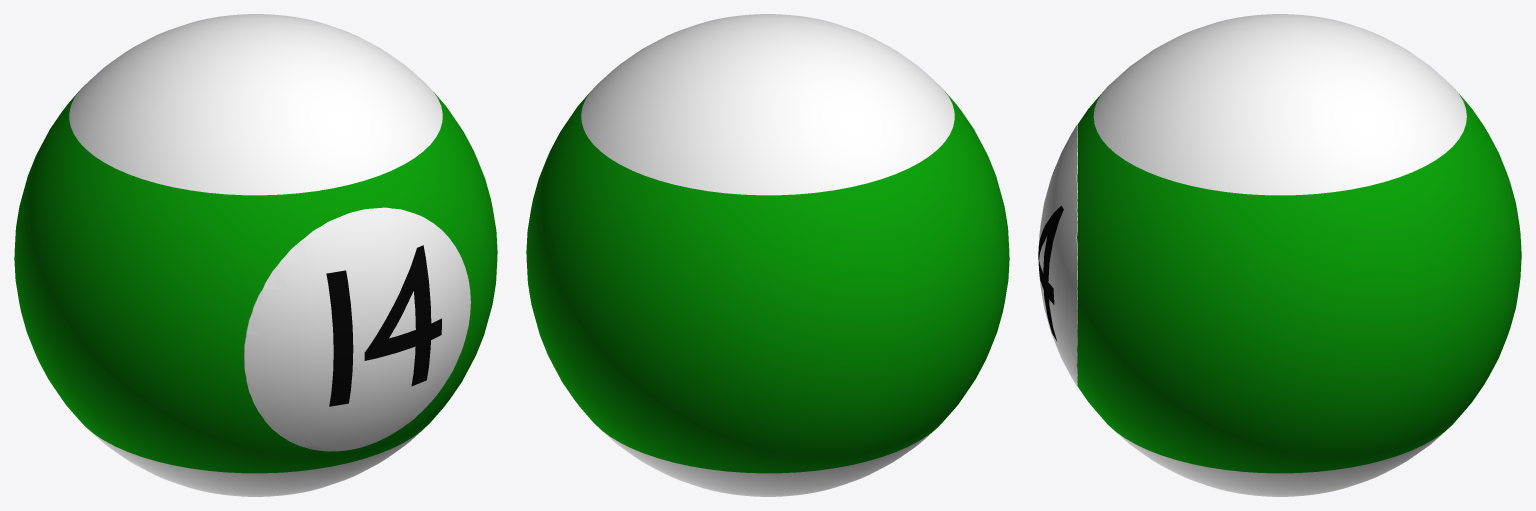
Rendered from Ball14.fbx.
The picture shows the model from 3 angles, left to right: view 1: azimuth 30°, elevation 25°; view 2: azimuth 150°, elevation 25°; view 3: azimuth 270°, elevation 25°; orthographic projection.
Visible parts, largest first — view 1: Ball14; view 2: Ball14; view 3: Ball14.
Part boxes in pixels (x1,y1,x2,y2): Ball14: (14, 14, 497, 496); Ball14: (526, 14, 1009, 496); Ball14: (1038, 14, 1521, 496).
Size of the model in its own units: 5.7 by 5.7 by 5.7.
